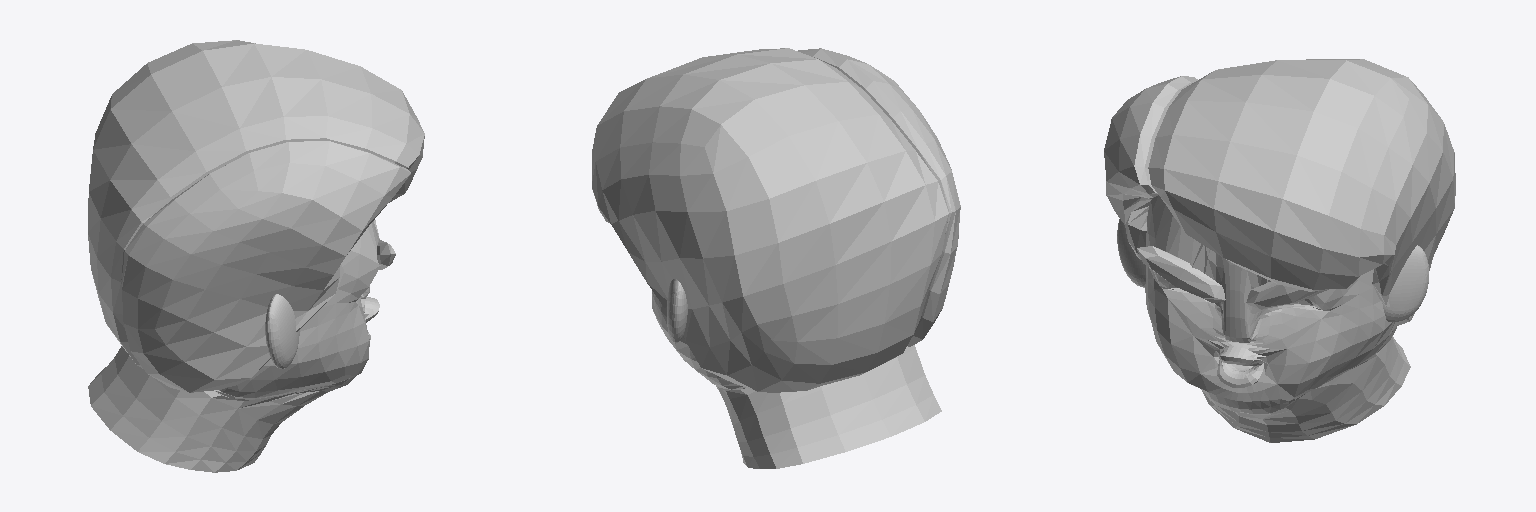
The model's file is trump_head_08.obj.
The picture shows the model from 3 angles: view 1: azimuth 30°, elevation 25°; view 2: azimuth 150°, elevation 25°; view 3: azimuth 270°, elevation 25°; orthographic projection.
Visible parts, largest first — view 1: eyebrow_1.1; view 2: eyebrow_1.1; view 3: eyebrow_1.1.
Boxes of the visible parts, x1,y1,x2,y2 form: eyebrow_1.1: [88, 40, 424, 472]; eyebrow_1.1: [592, 48, 960, 468]; eyebrow_1.1: [1104, 59, 1455, 442].
Size of the model in its own units: 30.34 by 34.49 by 29.21.